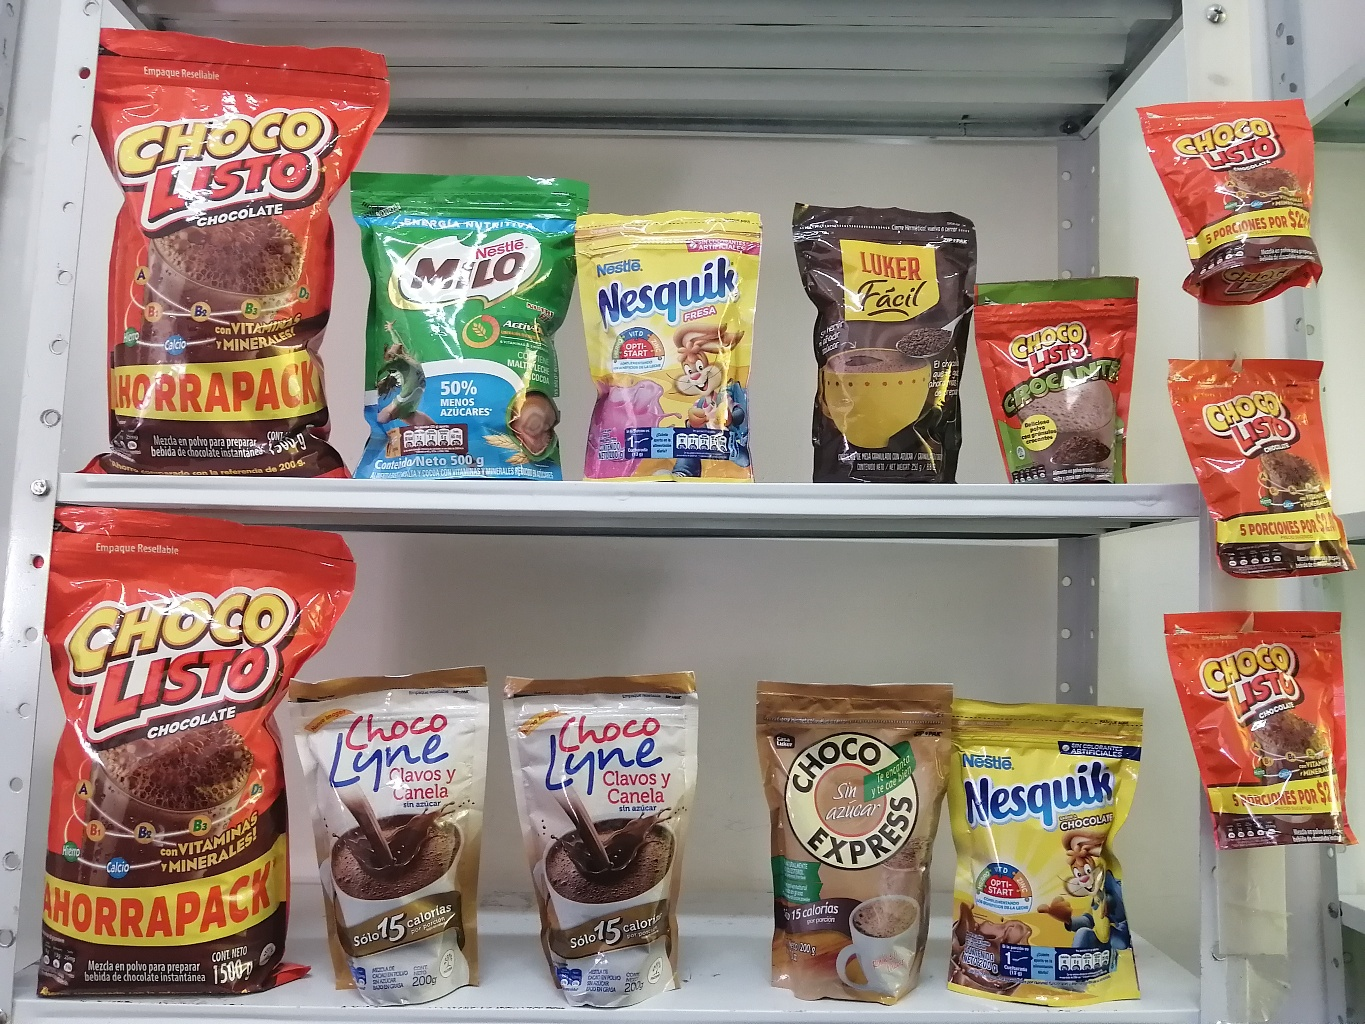COL0170102DYP10000: (984, 265, 1149, 489)
COL0170103DYP1,500: (25, 487, 358, 996)
COL0170103DYP10000: (1132, 99, 1330, 301)
COL0170205DYP50000: (342, 158, 580, 477)
COL0170303DYP20000: (942, 687, 1174, 999)
COL0170305DYP20000: (573, 201, 780, 480)
